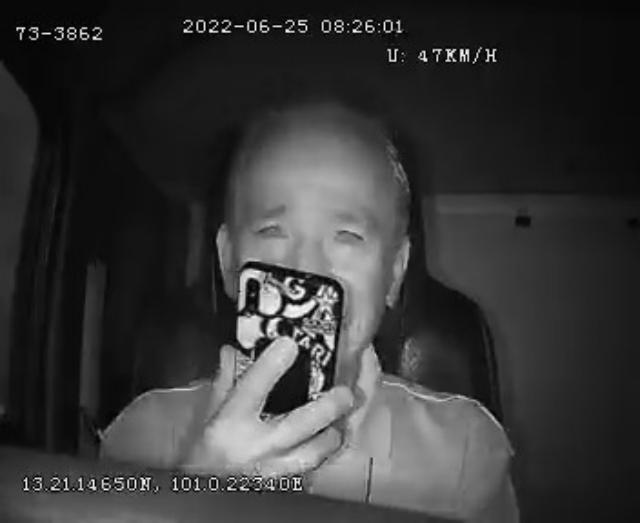PhoneUse: (236, 261, 346, 419)
SafeDriving: (324, 211, 375, 256), (246, 210, 296, 243)
